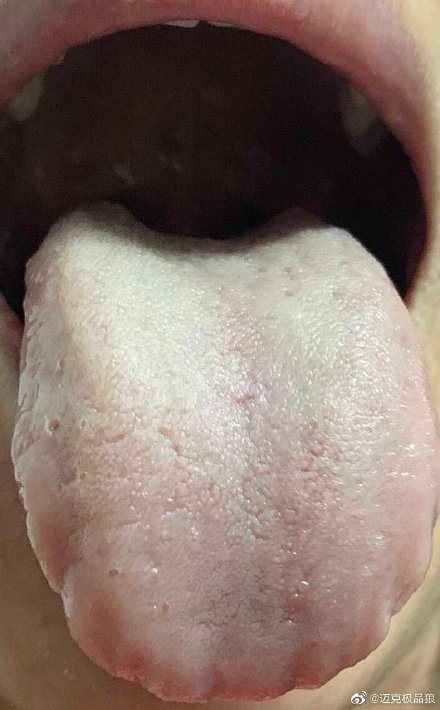baitaishe: (11, 199, 439, 701)
pangdashe: (12, 199, 440, 701)
shenquao: (99, 200, 303, 254)
